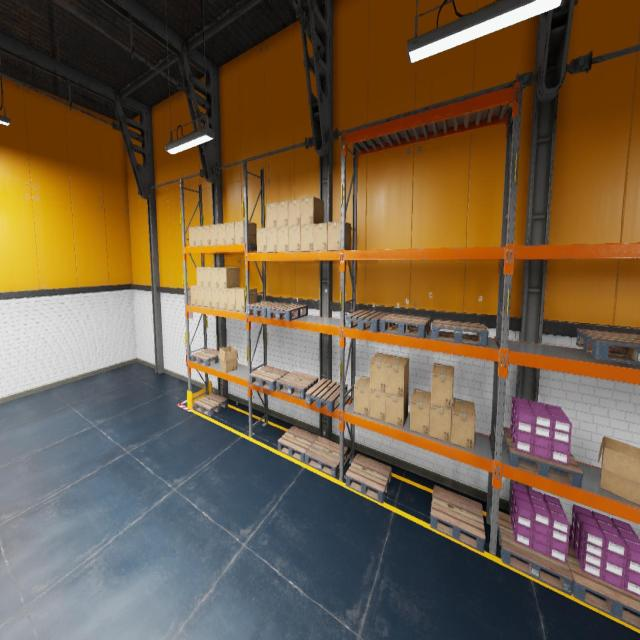box: (598, 436, 640, 506), (451, 398, 475, 450), (431, 364, 454, 409), (410, 388, 430, 436), (386, 356, 409, 397), (386, 387, 408, 428), (370, 352, 392, 393), (429, 404, 452, 442), (300, 196, 324, 225), (328, 221, 350, 251), (354, 376, 370, 416), (369, 389, 386, 422), (235, 288, 257, 312), (218, 346, 238, 372), (234, 221, 256, 244), (218, 267, 240, 288), (227, 287, 245, 310), (314, 222, 328, 251), (301, 224, 313, 251), (288, 225, 300, 251), (277, 226, 289, 252), (289, 198, 300, 226), (277, 200, 288, 227), (266, 202, 277, 228), (267, 227, 277, 252), (256, 228, 266, 253), (226, 222, 234, 244), (218, 223, 226, 245), (219, 288, 227, 309), (210, 224, 218, 245), (212, 288, 220, 308), (204, 287, 212, 307), (190, 285, 198, 305), (210, 268, 218, 288), (203, 267, 211, 287), (196, 267, 204, 287), (202, 225, 210, 245), (195, 226, 203, 246), (188, 226, 196, 246), (197, 287, 204, 306)
pallets: (567, 540, 640, 630), (498, 511, 573, 595), (503, 427, 583, 488), (430, 485, 485, 552), (346, 453, 392, 503), (576, 329, 640, 364), (305, 436, 348, 478), (431, 319, 488, 347), (278, 426, 318, 462), (306, 378, 348, 412), (380, 313, 430, 338), (277, 370, 318, 400), (249, 365, 289, 391), (346, 310, 390, 332), (194, 392, 228, 417), (267, 302, 308, 320), (246, 301, 286, 318), (191, 348, 220, 366)
